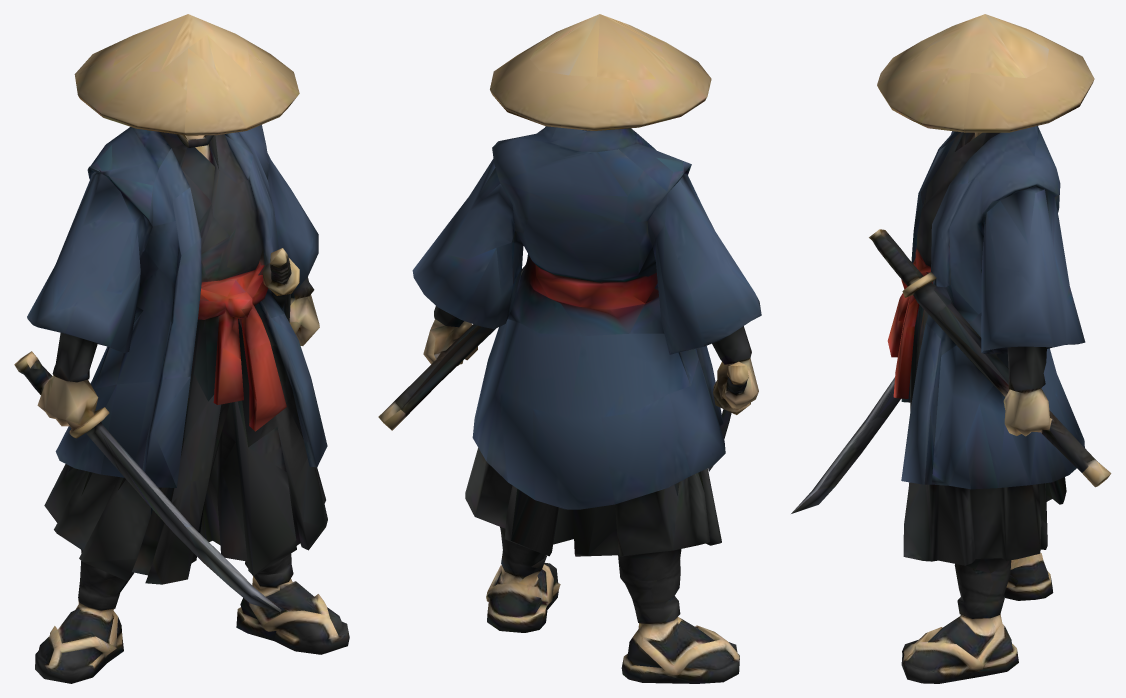
3 renders of one model, left to right at view 1: azimuth 30°, elevation 25°; view 2: azimuth 150°, elevation 25°; view 3: azimuth 270°, elevation 25°, orthographic. The views are drawn at different scales.
Visible parts, largest first — view 1: tripo_node_a1a3e1e0-fa3c-49da-827b-57a83378b077; view 2: tripo_node_a1a3e1e0-fa3c-49da-827b-57a83378b077; view 3: tripo_node_a1a3e1e0-fa3c-49da-827b-57a83378b077.
Boxes of the visible parts, x1,y1,x2,y2 form: tripo_node_a1a3e1e0-fa3c-49da-827b-57a83378b077: [14, 14, 349, 683]; tripo_node_a1a3e1e0-fa3c-49da-827b-57a83378b077: [378, 14, 761, 683]; tripo_node_a1a3e1e0-fa3c-49da-827b-57a83378b077: [791, 14, 1111, 683].
Bounding box in the file's own units: 0.5245 × 0.9793 × 0.4671.
1 material, 1 textured.
